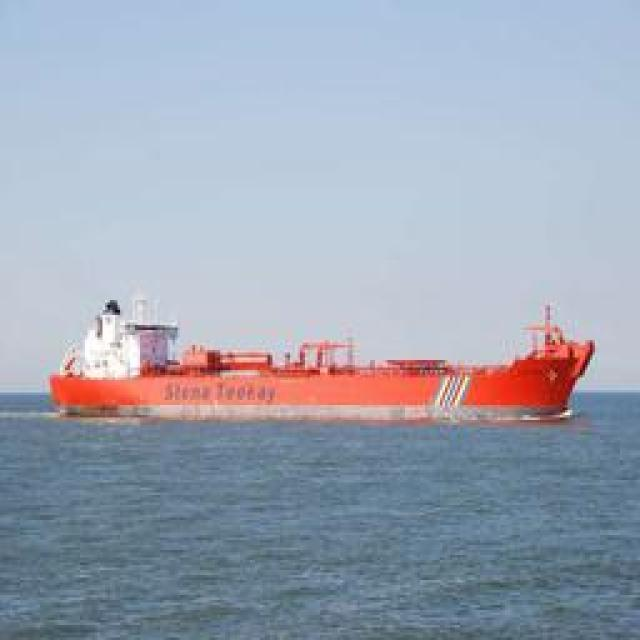CIV_Ship: (45, 284, 590, 424)
